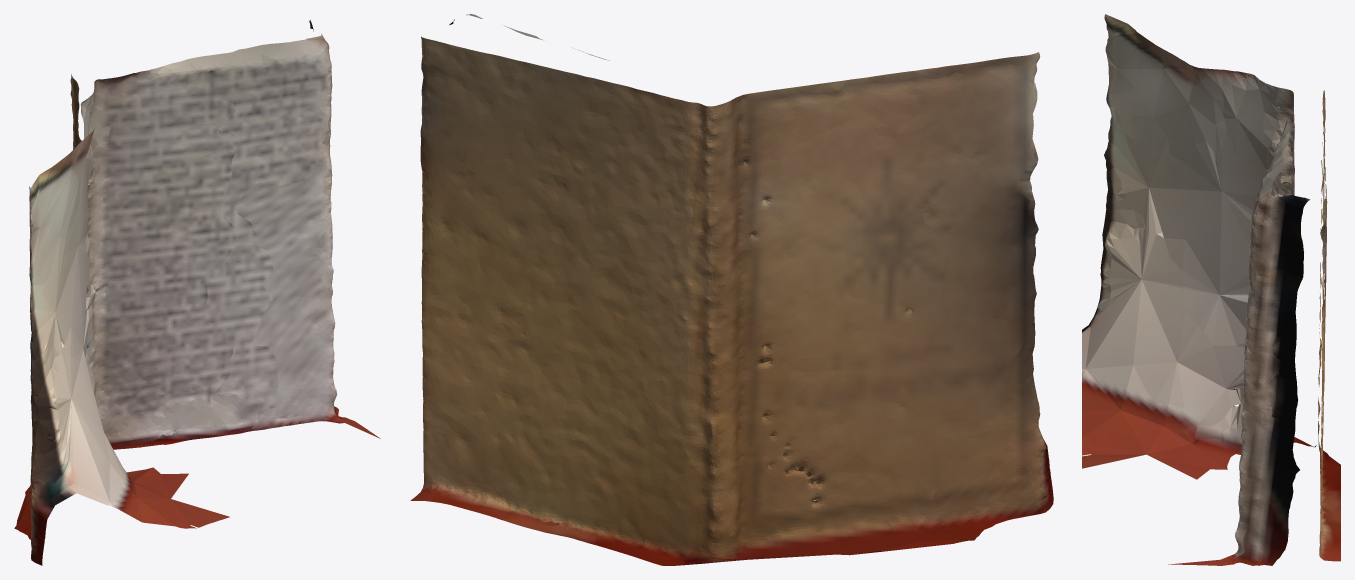
The model's file is 2_Matthew_V1.glb.
3 renders of one model, left to right at view 1: azimuth 30°, elevation 25°; view 2: azimuth 150°, elevation 25°; view 3: azimuth 270°, elevation 25°, orthographic. The views are drawn at different scales.
Parts seen in each view (by area): view 1: mesh; view 2: mesh; view 3: mesh.
Boxes of the visible parts, box(x1,y1,x2,y2) form: mesh: box(14, 19, 380, 565); mesh: box(410, 14, 1053, 565); mesh: box(1082, 14, 1340, 565).
Bounding box in the file's own units: 0.2139 × 0.1959 × 0.1254.
1 material, 1 textured.
